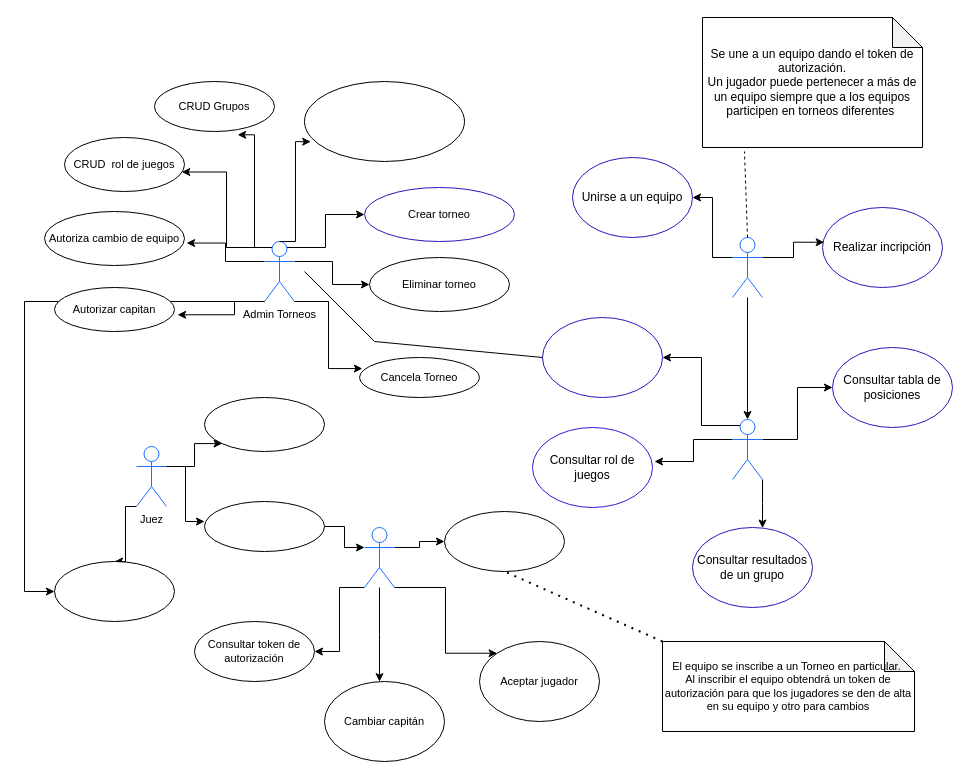
Image size: 970x779. Some labels were removed from this diagram. Each missing label, with the centre of its shape:
"Capitan de equipo" goes at point 379,557.
"Consultar cedula de juego" goes at point 264,526.
"Consultar información general" goes at point 602,357.
"Create, Update cedula Juego" goes at point 114,591.
"Inscribir equipo" goes at point 504,541.
"Jugador" goes at point 747,267.
"Modificar informacion general de torneo" goes at point 384,121.
"Registrar resultado de un juego" goes at point 264,424.
"Usuario en general" goes at point 747,449.
